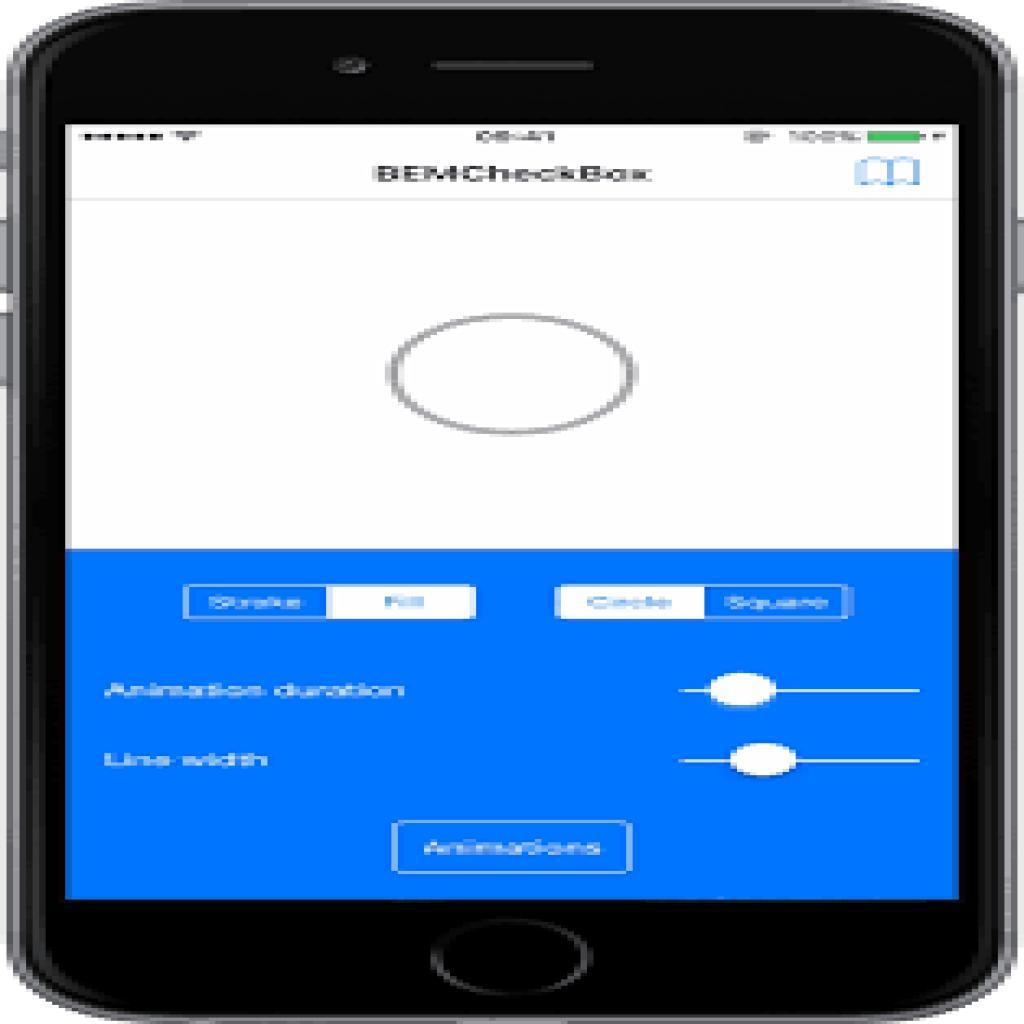button: (397, 826, 631, 877), (182, 585, 332, 621), (705, 586, 854, 621), (330, 587, 475, 622), (554, 586, 705, 619)
icon: (851, 154, 928, 194)
slider: (677, 741, 923, 785), (676, 670, 925, 711)
